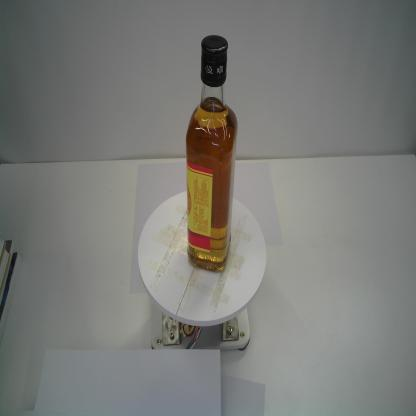Seasoner: (184, 31, 240, 275)
